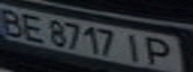1: (78, 24, 100, 54)
7: (96, 26, 121, 57), (60, 20, 84, 51)
8: (42, 17, 66, 48)
B: (0, 6, 30, 37)
E: (18, 11, 48, 43)
I: (121, 30, 148, 64)
P: (139, 35, 181, 69)
